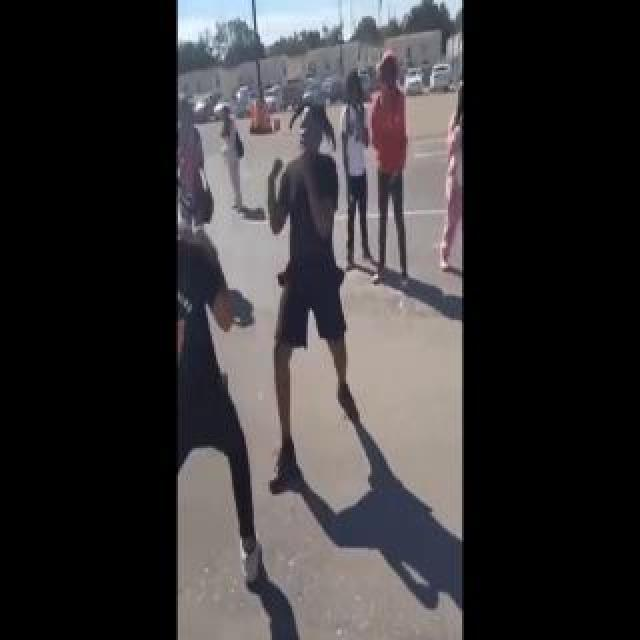fight: (174, 107, 374, 567), (341, 46, 435, 254)
